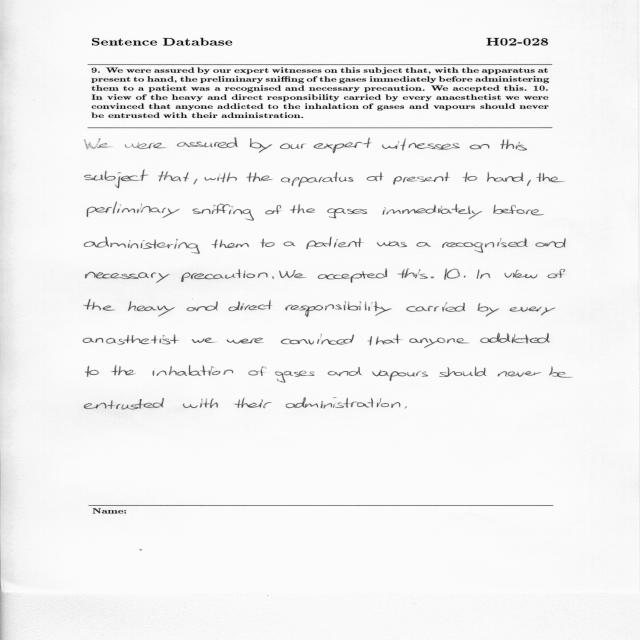word: (84, 237, 200, 254), (285, 301, 392, 317), (87, 202, 180, 218), (383, 204, 482, 219), (442, 238, 528, 253), (286, 398, 401, 409), (85, 171, 149, 189), (181, 269, 268, 282), (281, 172, 353, 187), (192, 204, 254, 221), (318, 268, 387, 283), (83, 335, 179, 345), (382, 139, 460, 151), (86, 272, 170, 283), (153, 365, 234, 376), (84, 398, 164, 409), (314, 138, 372, 153), (281, 334, 354, 345), (480, 333, 550, 344), (393, 172, 449, 185), (128, 301, 175, 316), (306, 237, 364, 249), (372, 370, 428, 381), (177, 138, 238, 148), (409, 338, 469, 348), (406, 302, 465, 312), (493, 205, 544, 216), (275, 371, 315, 383), (439, 367, 487, 377), (228, 300, 271, 311), (509, 307, 555, 316), (327, 208, 367, 218), (234, 398, 272, 408), (368, 334, 402, 345), (84, 299, 115, 311), (487, 172, 523, 182), (183, 399, 218, 409), (211, 239, 249, 248), (397, 268, 428, 279), (250, 138, 272, 153), (204, 173, 237, 183), (187, 302, 218, 312), (328, 367, 362, 376), (159, 171, 189, 181), (536, 238, 566, 248), (85, 139, 112, 150), (125, 142, 167, 149), (501, 140, 527, 151), (549, 366, 572, 378), (111, 365, 136, 376), (478, 303, 499, 316), (246, 172, 273, 182), (505, 270, 538, 278), (498, 371, 542, 377), (536, 173, 564, 182), (290, 204, 315, 213), (279, 270, 306, 278), (227, 338, 263, 344), (377, 241, 407, 247), (249, 366, 267, 376), (444, 269, 460, 280), (547, 269, 565, 278), (280, 143, 306, 149), (85, 366, 99, 377), (367, 172, 384, 181), (265, 205, 281, 214), (192, 337, 216, 343), (463, 172, 477, 182), (477, 269, 491, 279), (260, 239, 275, 248), (470, 144, 490, 149), (416, 242, 431, 247), (284, 242, 296, 247), (194, 179, 198, 185), (527, 180, 531, 186), (404, 406, 407, 409), (272, 276, 274, 279), (431, 277, 434, 279), (464, 276, 466, 278)
